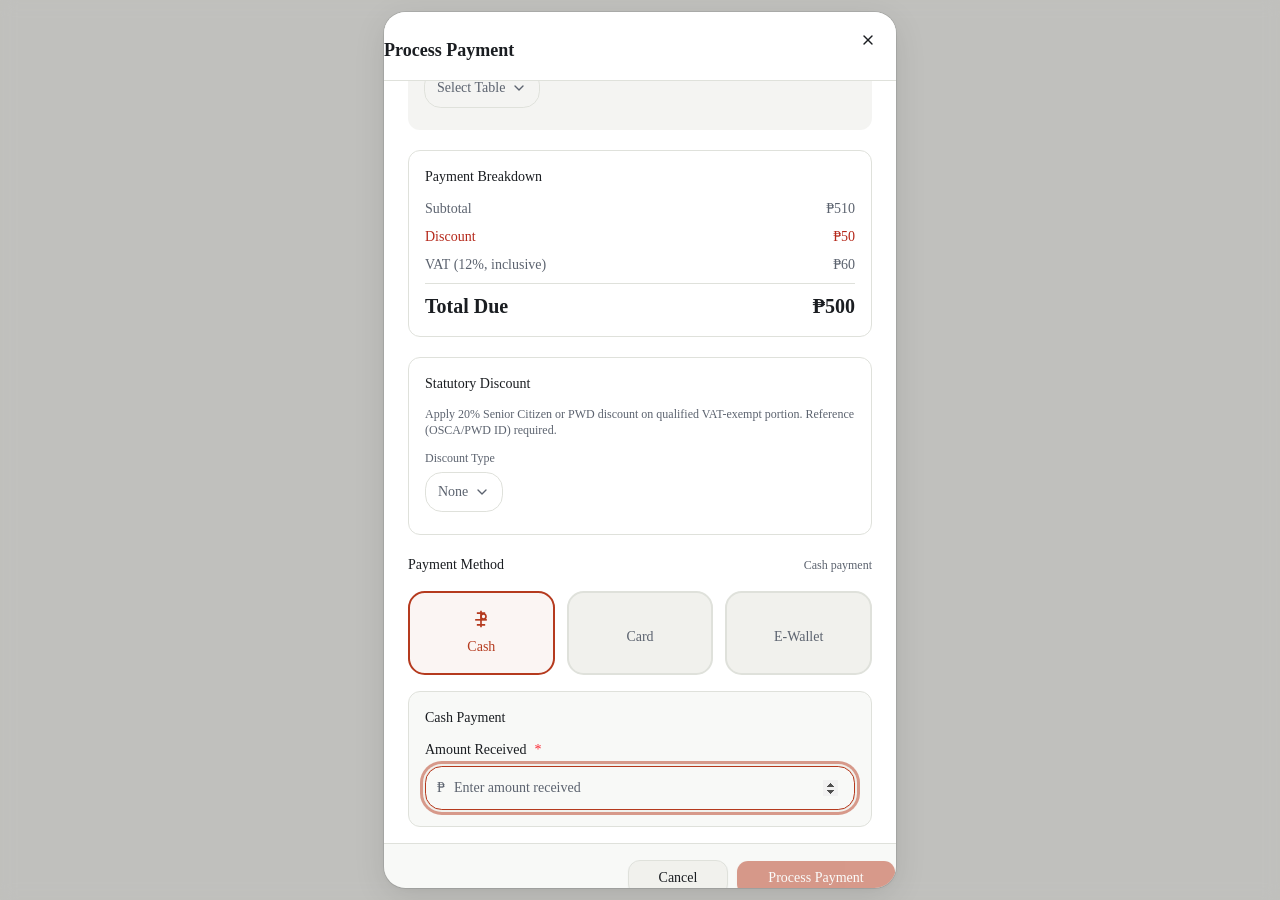
Test: PaymentDialog › keeps Process Payment disabled until the total is fully paid
The width and height of the screenshot is (1280, 900).
(page scrolled)
Expected: the button "Process Payment" is disabled, [736,860,896,888]
Type "500" into the number field with placeholder "Enter amount received" at (640, 788), box [425,766,855,810]
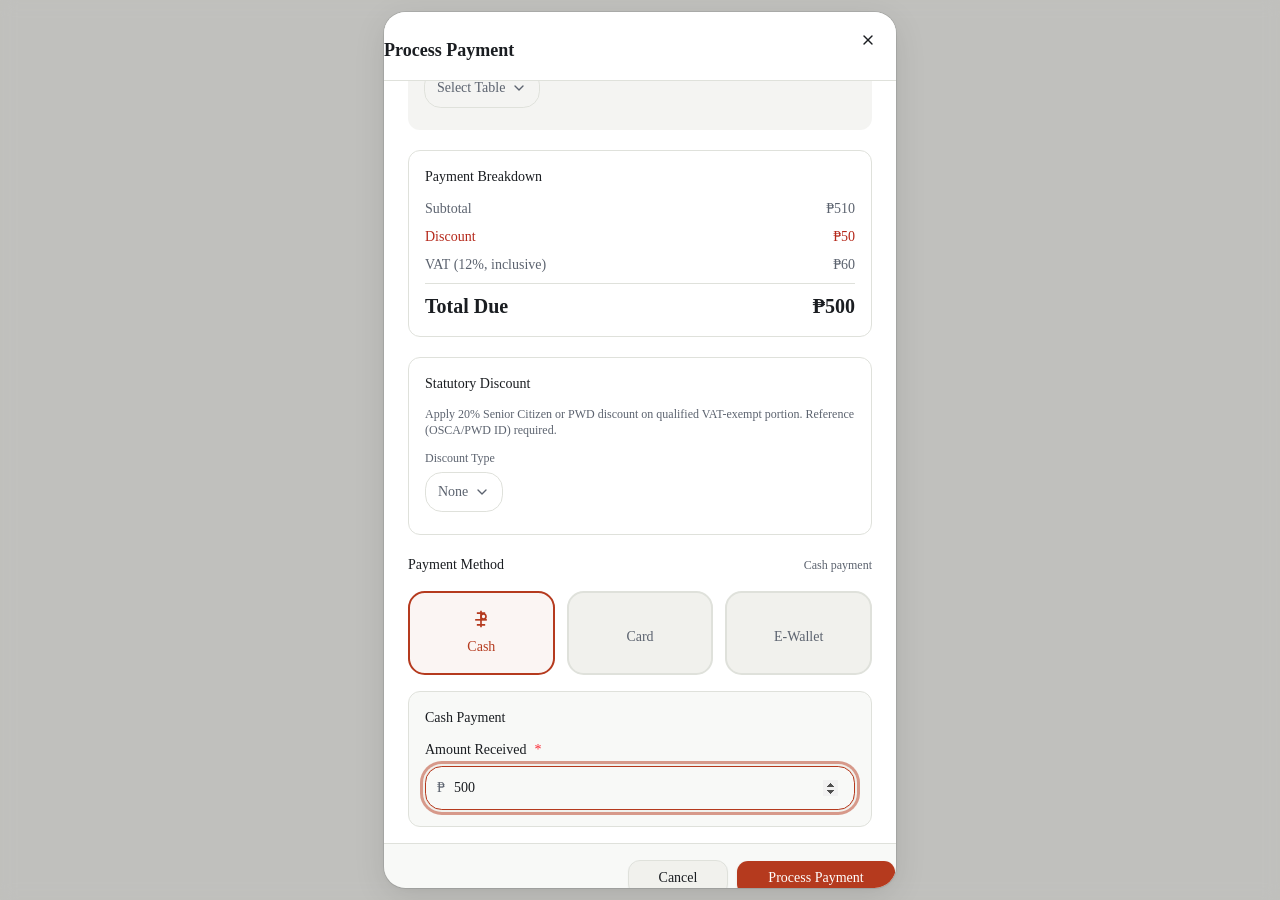
Result: the button "Process Payment" is enabled at [736,860,896,888]
